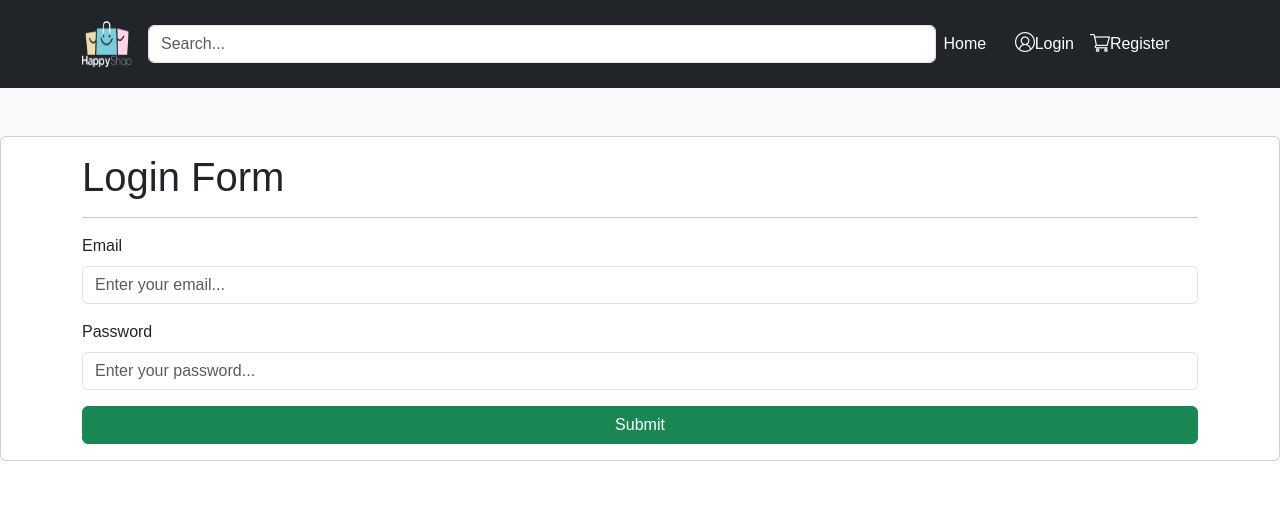
Login › Should display an error message for missing credentials
The width and height of the screenshot is (1280, 526).
Click the submit button: [640, 425] box 82,406 -> 1198,444
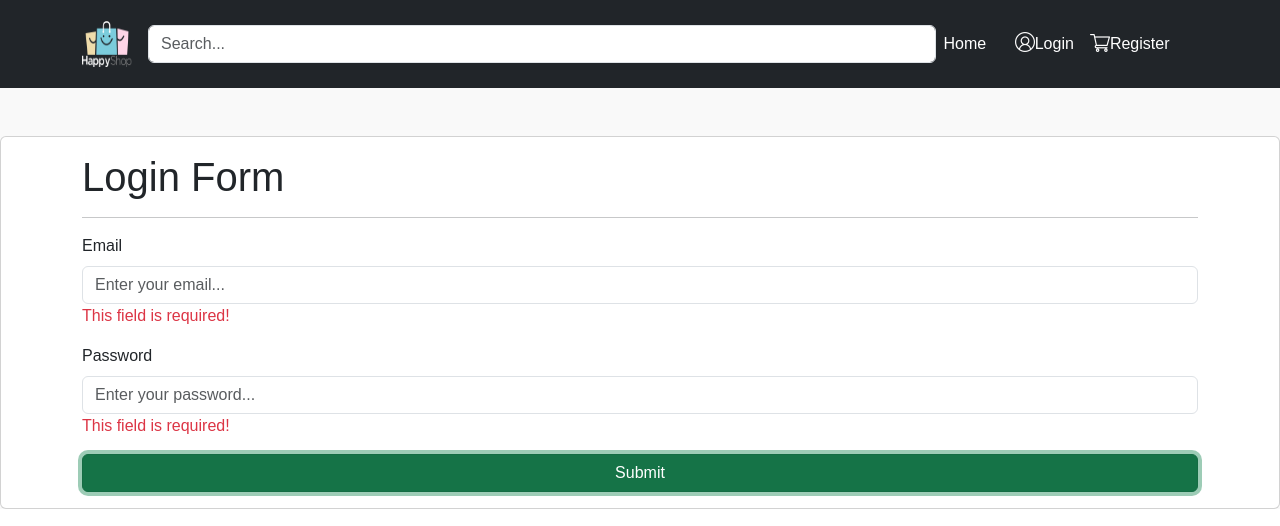
Expected: the text "This field is required!" below "Email" is shown, 82,307 -> 230,324
